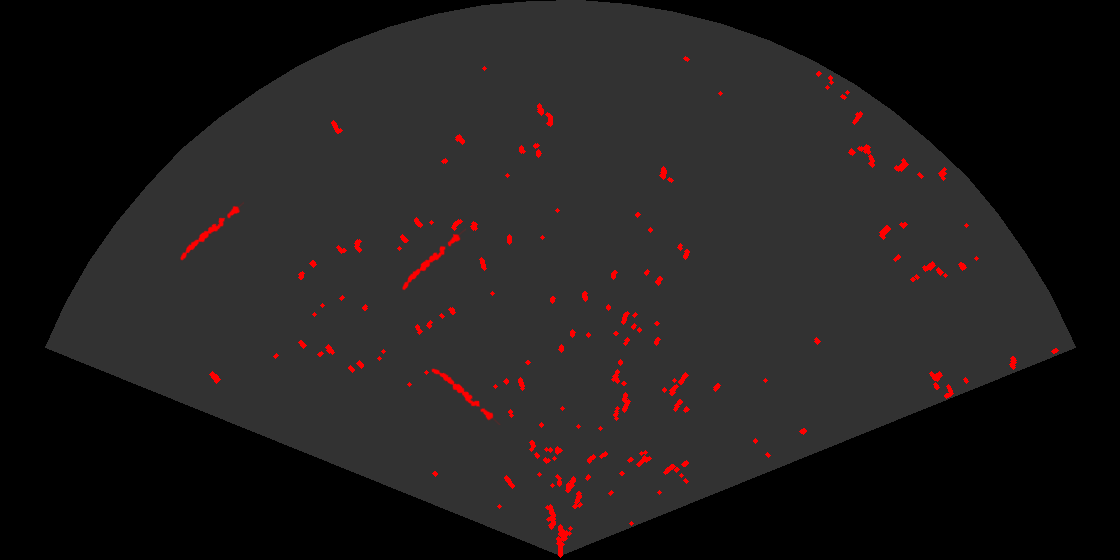chain: (400, 227, 466, 292), (430, 367, 502, 425), (179, 200, 244, 262)
